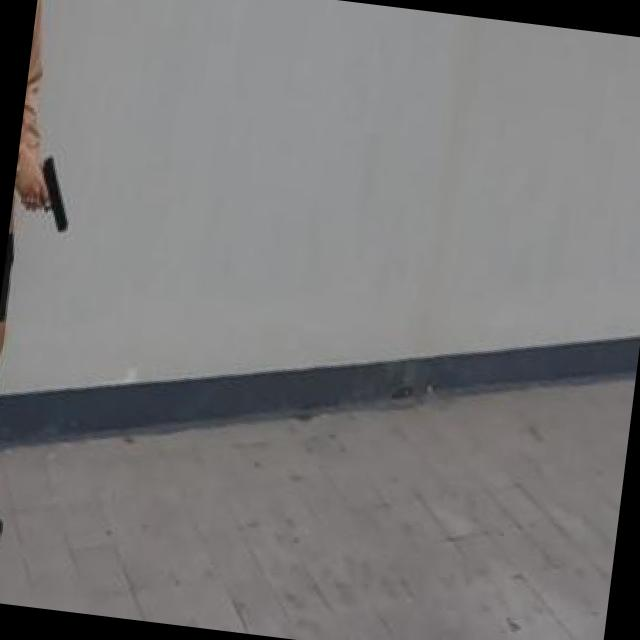Guns: (22, 140, 87, 242)
